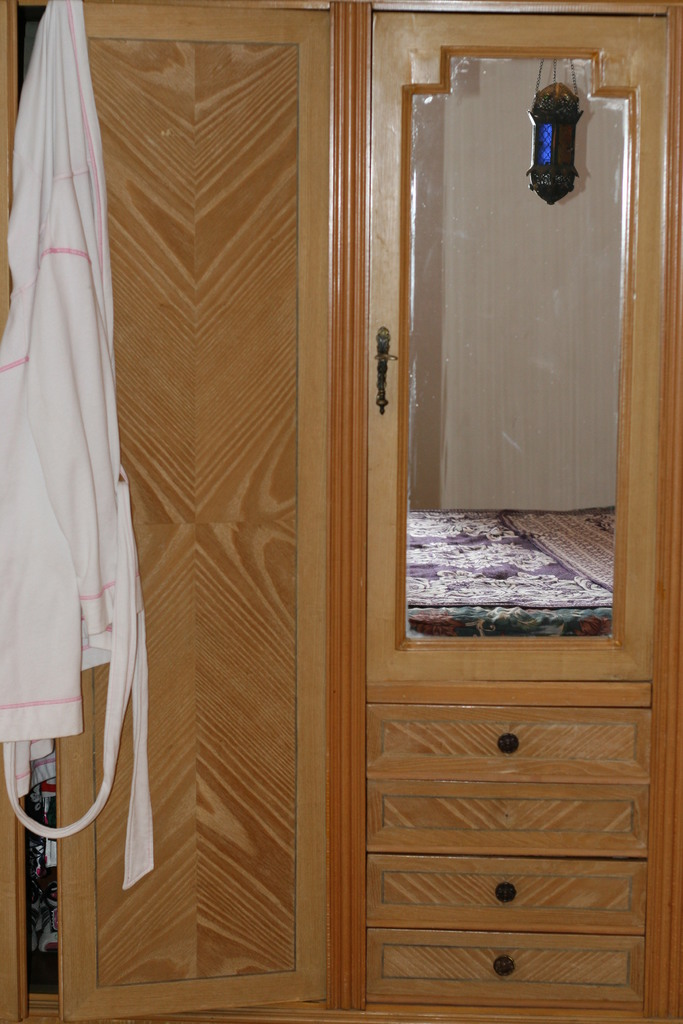cabinet door: (375, 24, 656, 668), (361, 848, 646, 932), (362, 927, 644, 1011), (371, 700, 648, 781), (369, 792, 648, 860)
handle: (375, 309, 395, 412), (495, 870, 518, 916), (495, 724, 521, 761), (492, 943, 515, 983)
